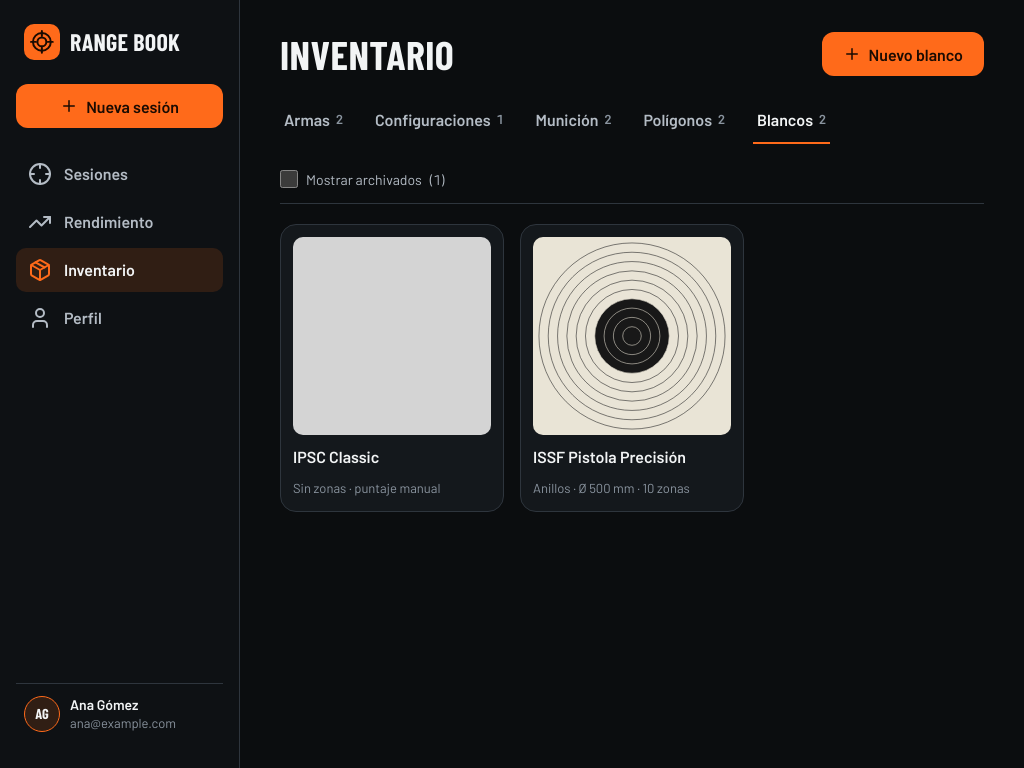
Test: Inventario: blancos › alta (M12) › valida los obligatorios y enfoca el primero
This screenshot has width=1024, height=768.
Click the link "Nuevo blanco": (903, 54) top-left (822, 32), bottom-right (984, 76)
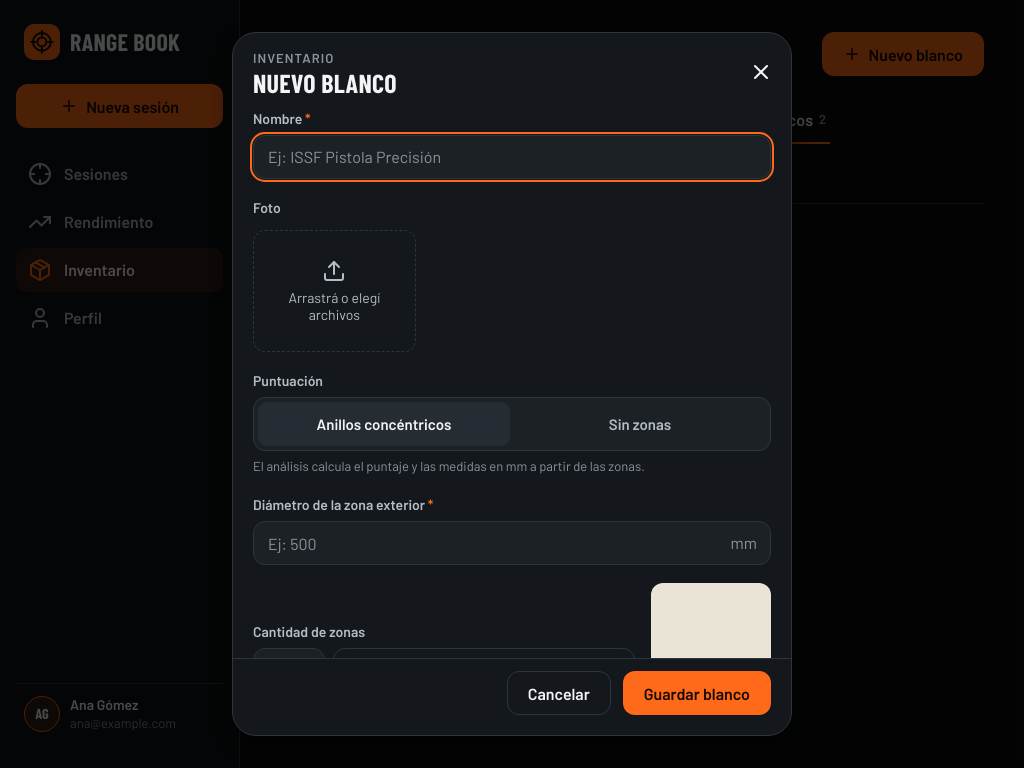
Click the button "Guardar blanco": (697, 693) top-left (623, 671), bottom-right (771, 715)
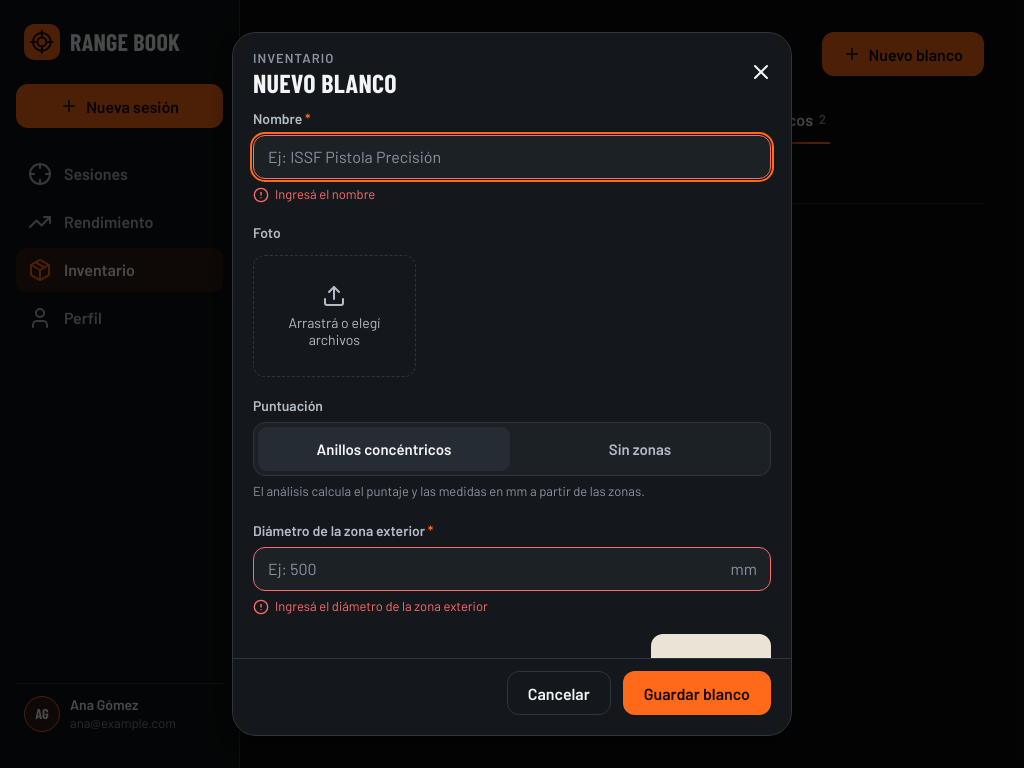
Check: the text "Ingresá el nombre" is shown, box top-left (253, 186), bottom-right (375, 203)
Check: the text "Ingresá el diámetro de la zona exterior" is shown, box top-left (253, 598), bottom-right (488, 615)
